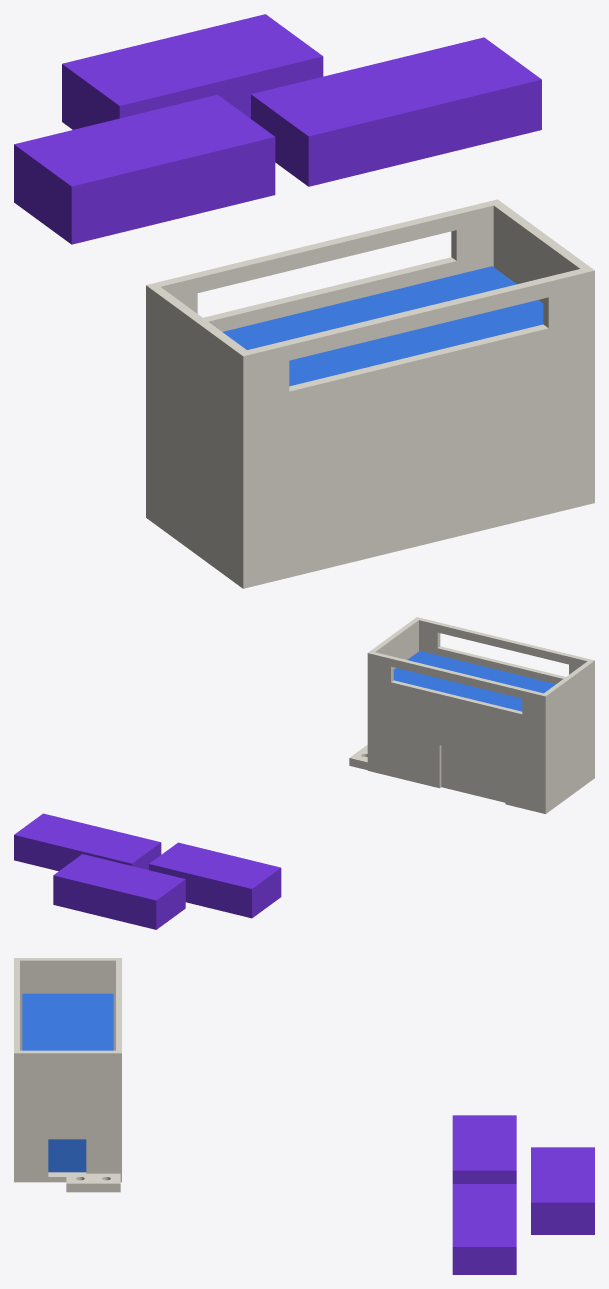
The model's file is power.glb.
3 renders of one model, top to bottom at view 1: azimuth 30°, elevation 25°; view 2: azimuth 150°, elevation 25°; view 3: azimuth 270°, elevation 25°, orthographic. The views are drawn at different scales.
Parts seen in each view (by area): view 1: power (×3); view 2: power (×3); view 3: power (×3).
Part boxes in pixels (box(x1,y1,x2,y2)): power (×3): box(14, 14, 594, 588); power (×3): box(14, 617, 594, 929); power (×3): box(14, 958, 594, 1274).
Size of the model in its own units: 0.1875 by 0.06 by 0.245.
